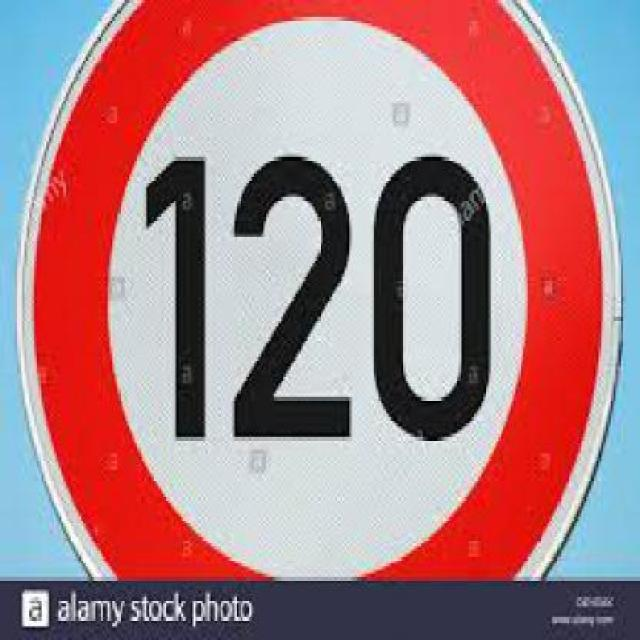forb_speed_over_120: (31, 5, 609, 578)
